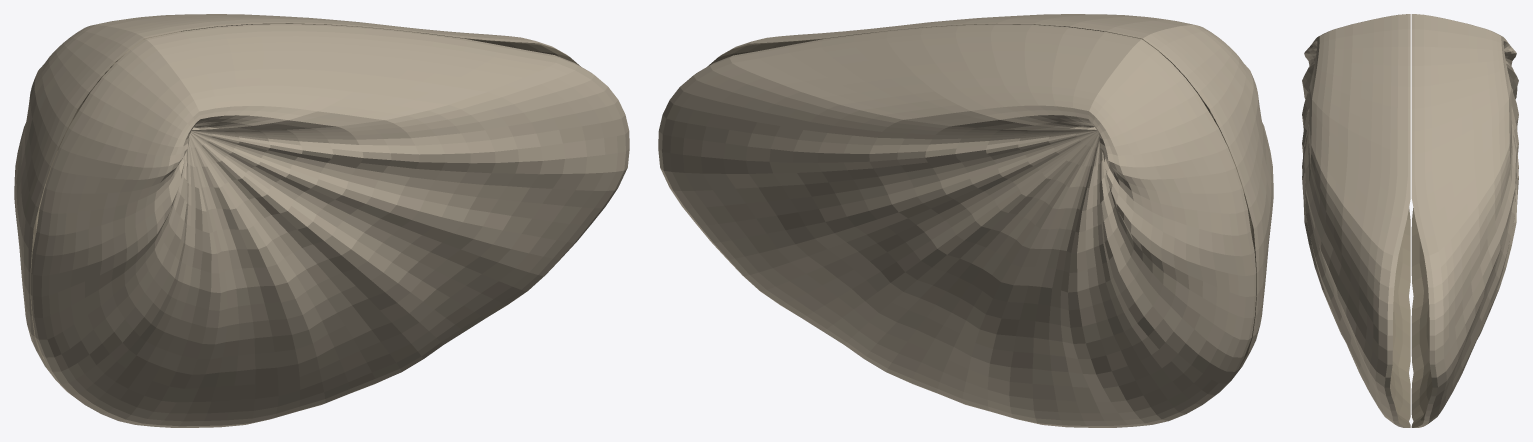
Rendered from pholadomya.glb.
3 views of the same model, side by side, from view 1: azimuth 30°, elevation 25°; view 2: azimuth 150°, elevation 25°; view 3: azimuth 270°, elevation 25° (orthographic). The views are drawn at different scales.
Parts seen in each view (by area): view 1: Right valve, Left valve; view 2: Left valve, Right valve; view 3: Right valve, Left valve.
Boxes of the visible parts, x1,y1,x2,y2 form: Right valve: (31,24,629,427); Left valve: (14,14,580,392); Left valve: (658,24,1256,427); Right valve: (707,14,1273,393); Right valve: (1302,14,1410,427); Left valve: (1411,14,1518,427).
Bounding box in the file's own units: 0.09 × 0.0601 × 0.0365.
